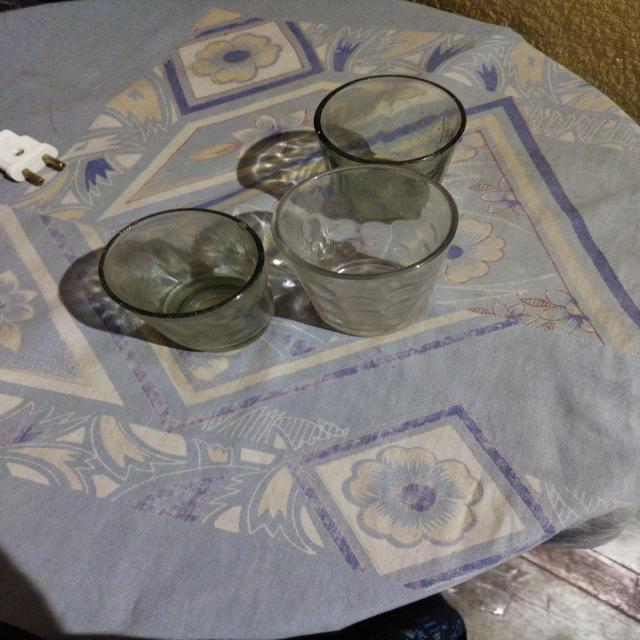Glass: (266, 160, 463, 340), (95, 203, 278, 355), (309, 72, 472, 186)
